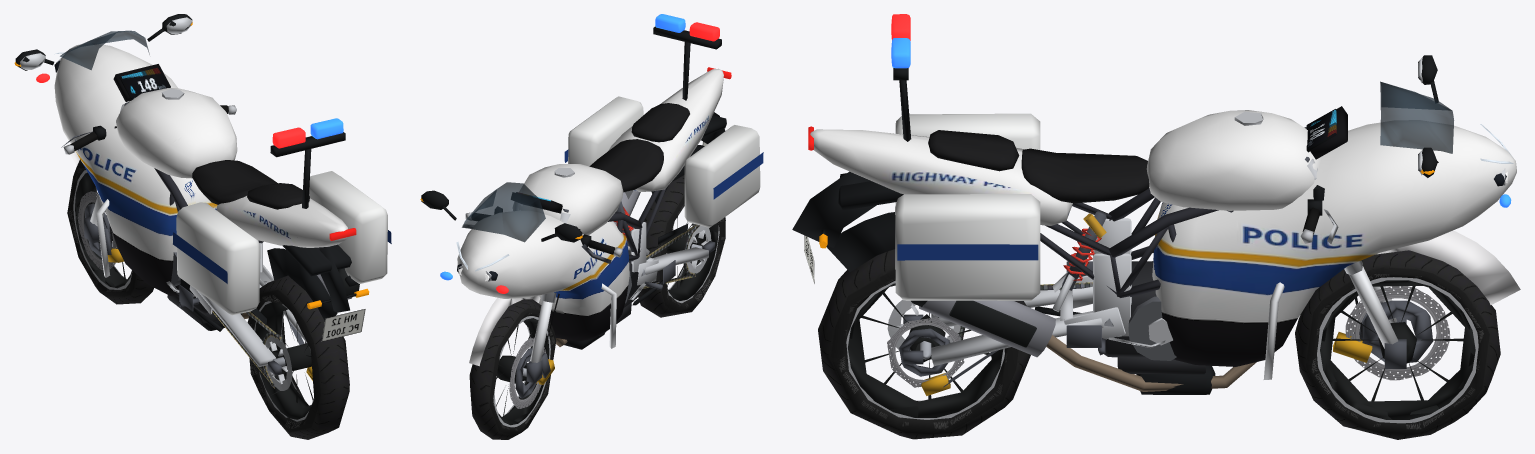
File: policebike_far.glb
The picture shows the model from 3 angles, left to right: view 1: azimuth 30°, elevation 25°; view 2: azimuth 150°, elevation 25°; view 3: azimuth 270°, elevation 25°; orthographic projection. The views are drawn at different scales.
Parts seen in each view (by area): view 1: bike_Parts, bike_BodyPaint, WheelR, WheelF, bike_Glass, bike_Siren_R, bike_Siren_B, bike_Lamps; view 2: bike_Parts, bike_BodyPaint, WheelF, WheelR, bike_Glass, bike_Siren_B, bike_Siren_R, bike_Lamps; view 3: bike_Parts, bike_BodyPaint, WheelF, WheelR, bike_Glass, bike_Siren_B.
Boxes of the visible parts, x1,y1,x2,y2 form: bike_Parts: (15,14,391,388); bike_BodyPaint: (54,44,347,296); WheelR: (247,275,349,439); WheelF: (67,159,153,304); bike_Glass: (60,30,149,70); bike_Siren_R: (36,73,305,148); bike_Siren_B: (310,118,343,139); bike_Lamps: (14,22,369,309); bike_Parts: (421,26,763,384); bike_BodyPaint: (457,68,723,341); WheelF: (469,299,556,439); WheelR: (638,175,725,317); bike_Glass: (462,182,545,242); bike_Siren_B: (440,14,685,280); bike_Siren_R: (496,22,719,293); bike_Lamps: (420,67,731,281); bike_Parts: (792,55,1520,395); bike_BodyPaint: (810,110,1516,366); WheelF: (1295,250,1500,439); WheelR: (818,249,1030,439); bike_Glass: (1380,81,1454,153); bike_Siren_B: (891,38,1511,207).
Size of the model in its own units: 0.7501 by 1.26 by 2.07.
Materials: 8 (5 with a texture image).
